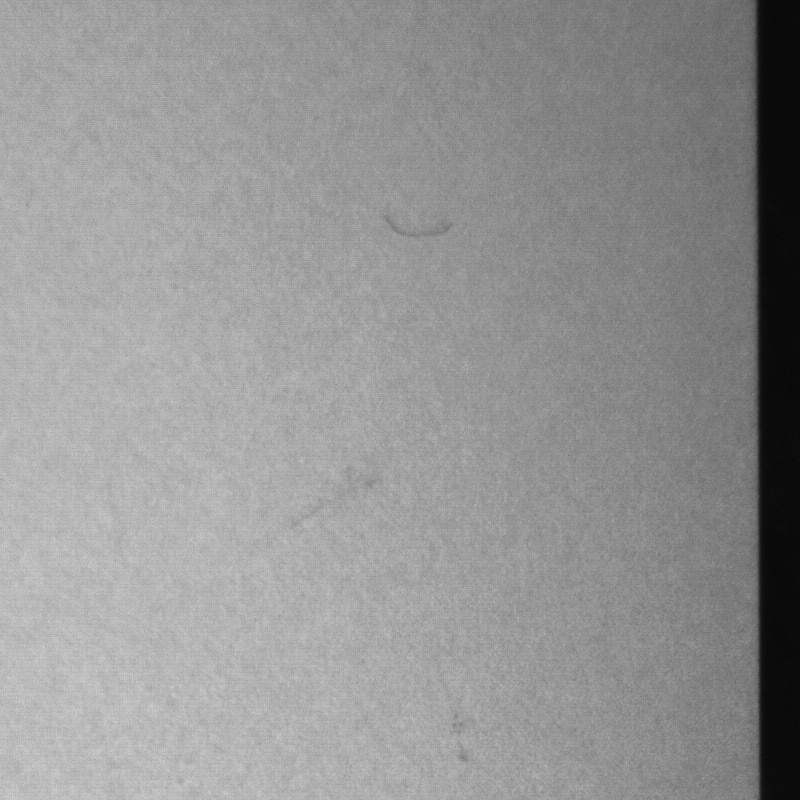defect: (284, 476, 388, 519), (444, 682, 473, 766), (381, 212, 459, 237)
